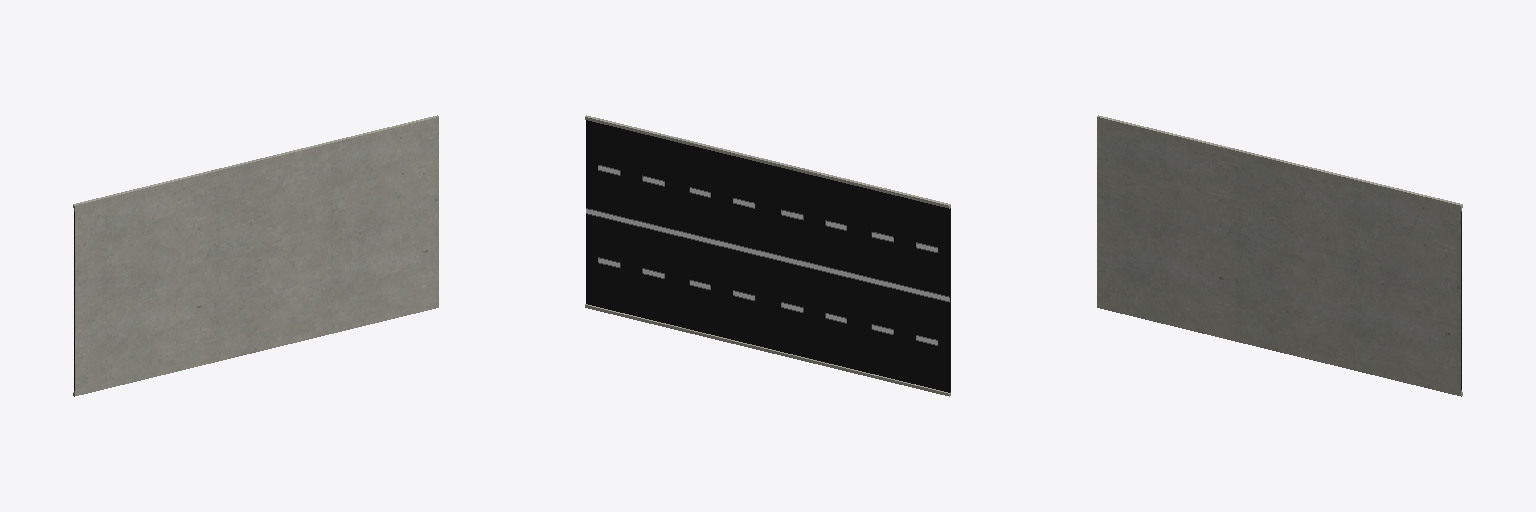
The picture shows the model from 3 angles: view 1: azimuth 30°, elevation 25°; view 2: azimuth 150°, elevation 25°; view 3: azimuth 330°, elevation 25°; orthographic projection.
Parts seen in each view (by area): view 1: asphalt-road-double-block-subwalk-16m_Plane.044; view 2: asphalt-road-double-block-subwalk-16m_Plane.044; view 3: asphalt-road-double-block-subwalk-16m_Plane.044.
Part boxes in pixels (x1,y1,x2,y2): asphalt-road-double-block-subwalk-16m_Plane.044: (73, 115, 438, 396); asphalt-road-double-block-subwalk-16m_Plane.044: (585, 115, 950, 396); asphalt-road-double-block-subwalk-16m_Plane.044: (1097, 115, 1462, 396).
Size of the model in its own units: 16 by 8 by 0.15.
1 materials, 1 textured.